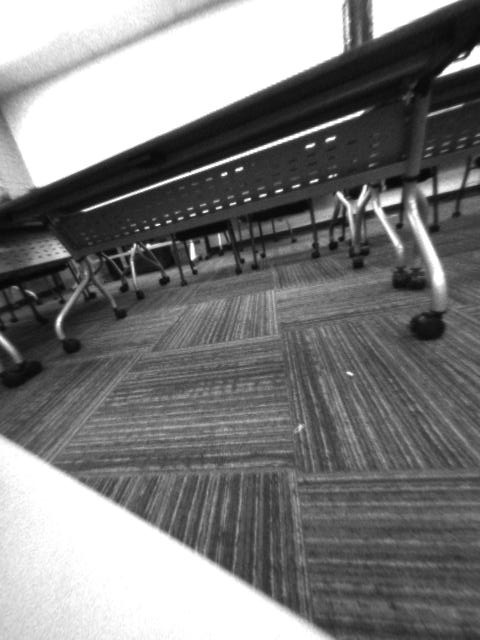can: (340, 1, 374, 56)
